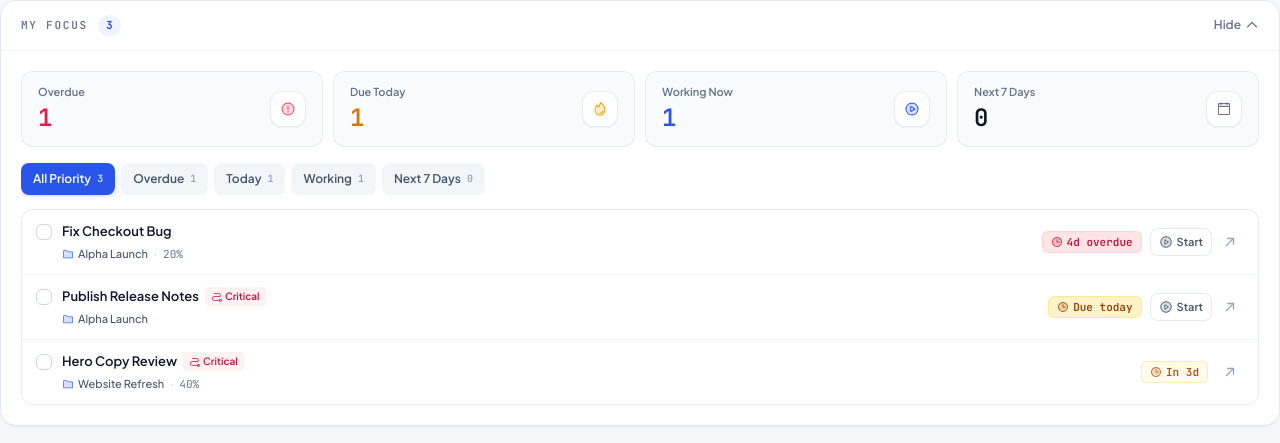
Test: Phase 3 FocusDashboardPanel & WorkspaceCard health indicators › filters cross-workspace focus buckets via KPI cards and triggers quick status & deep-link actions
The image size is (1280, 443).
Later steps or results of the test are not shown.
Expected: the element with test id "focus-item-ws_a-1" is shown, [22,210,1258,274]
Expected: the element with test id "focus-item-ws_a-2" is shown, [22,274,1258,339]
// Filter to Overdue via tab
Click the tab "Overdue 1" at (165, 179), box [121,163,208,195]
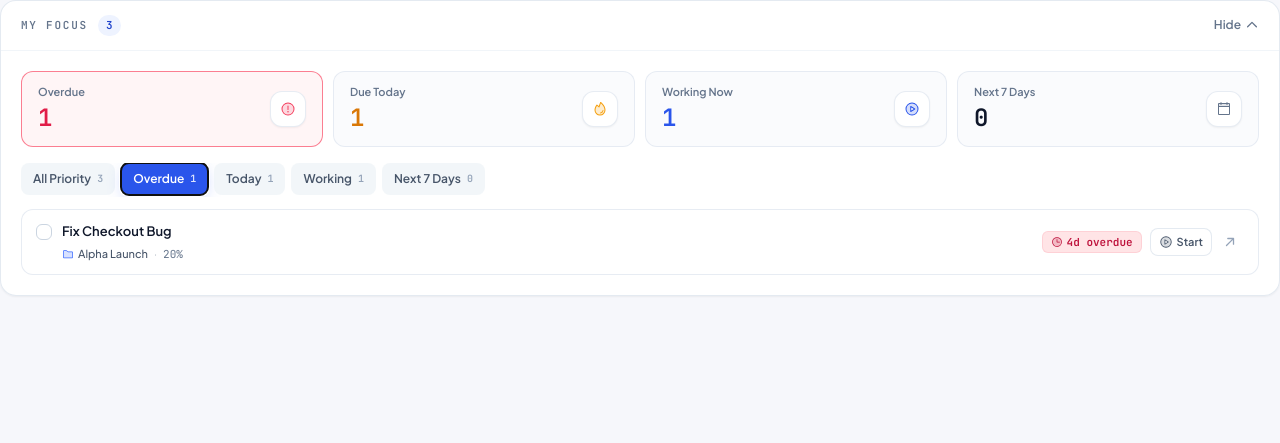
Expected: the element with test id "focus-item-ws_a-1" is shown, [22,210,1258,274]
Expected: the element with test id "focus-item-ws_b-10" is gone
